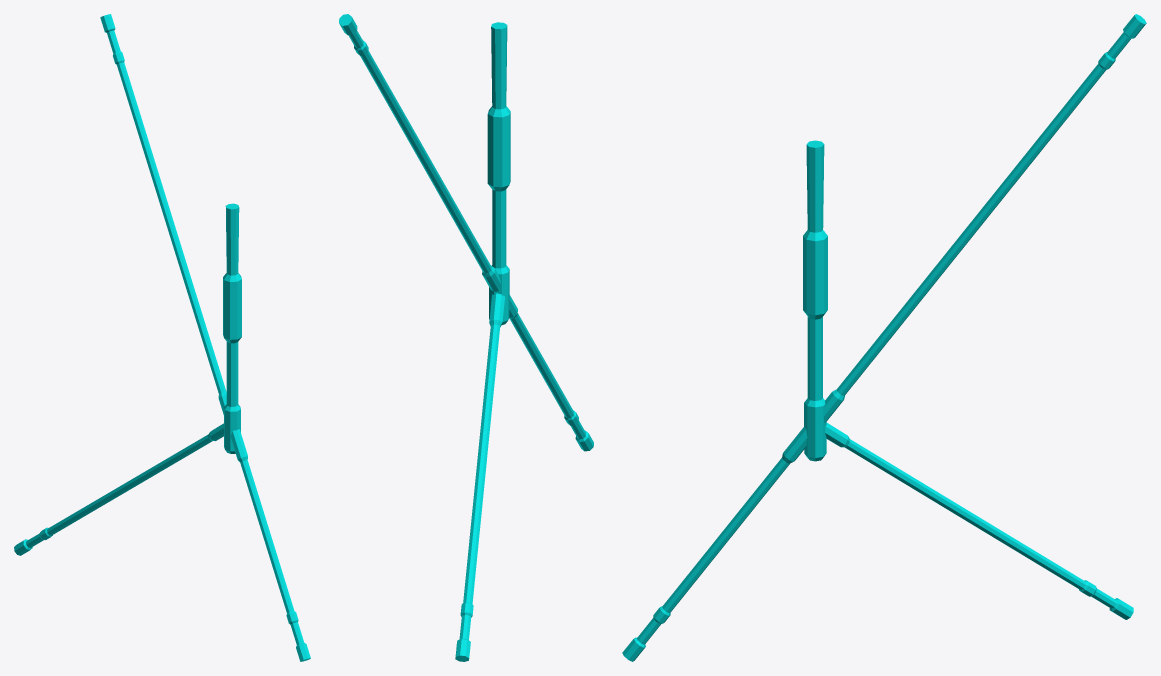
Rendered from Boat_Mast_Collision.fbx.
The picture shows the model from 3 angles, left to right: view 1: azimuth 30°, elevation 25°; view 2: azimuth 150°, elevation 25°; view 3: azimuth 270°, elevation 25°; orthographic projection. The views are drawn at different scales.
Visible parts, largest first — view 1: Boat_Mast_Collision; view 2: Boat_Mast_Collision; view 3: Boat_Mast_Collision.
Boxes of the visible parts, left/top/right/bottom form: Boat_Mast_Collision: left=14, top=14, right=310, bottom=661; Boat_Mast_Collision: left=339, top=14, right=593, bottom=661; Boat_Mast_Collision: left=622, top=14, right=1146, bottom=661.
Bounding box in the file's own units: 288 × 1349 × 970.
